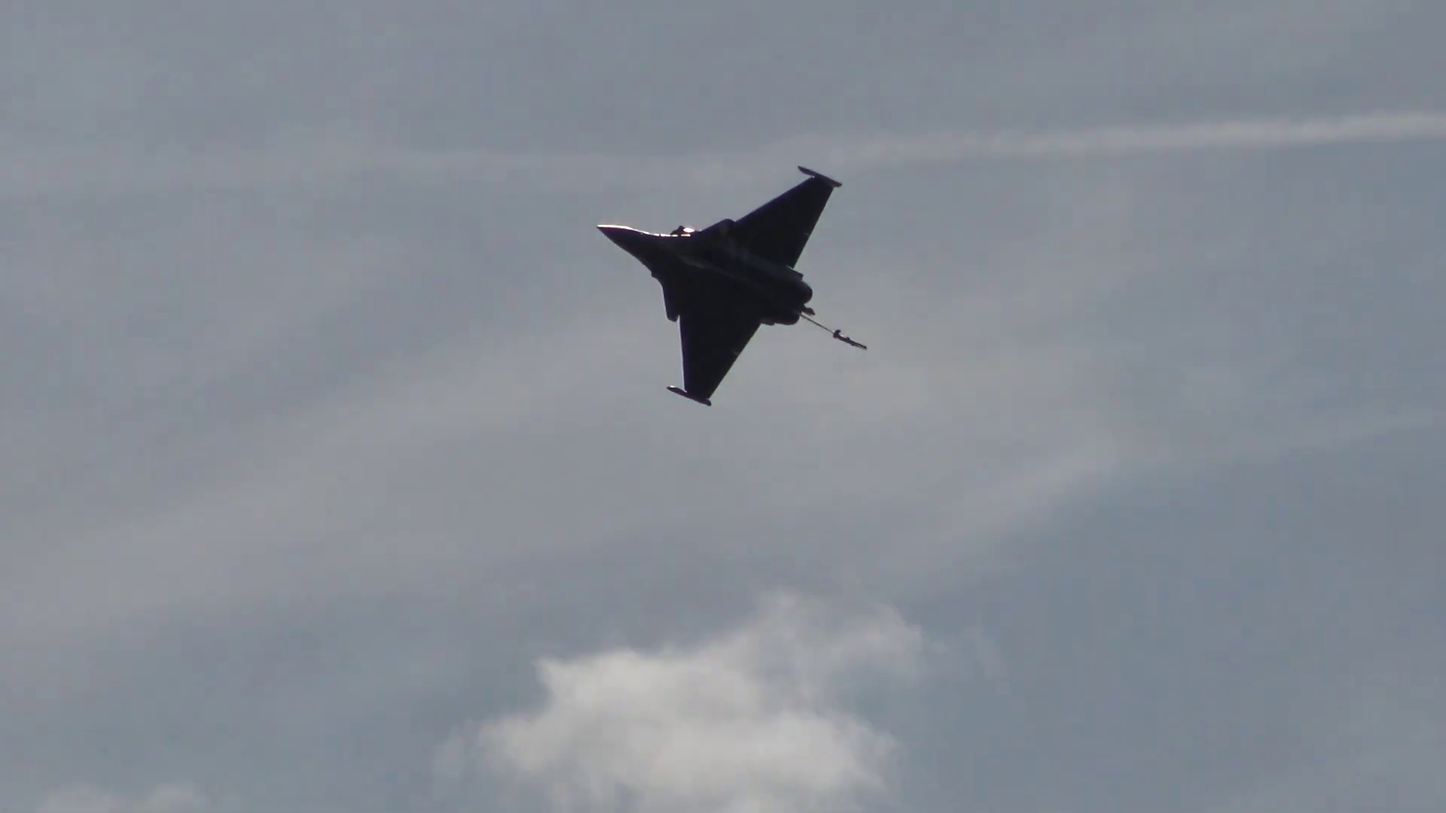Rafale: (594, 164, 866, 413)
